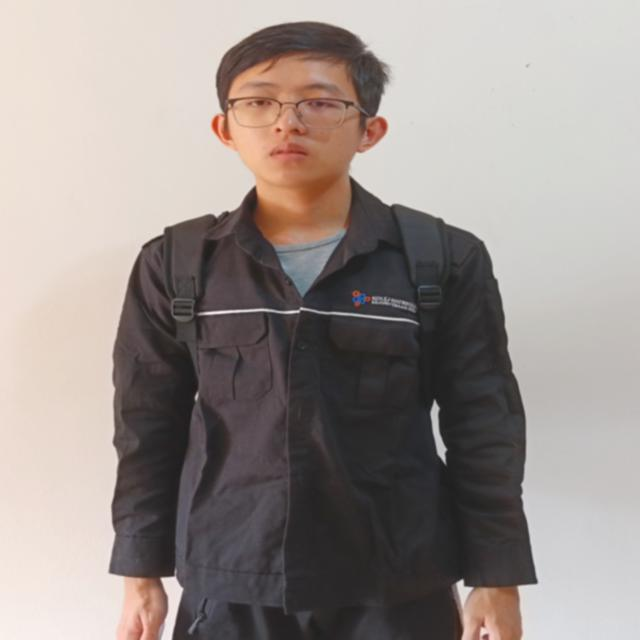person_with_labcoat: (110, 23, 536, 640)
